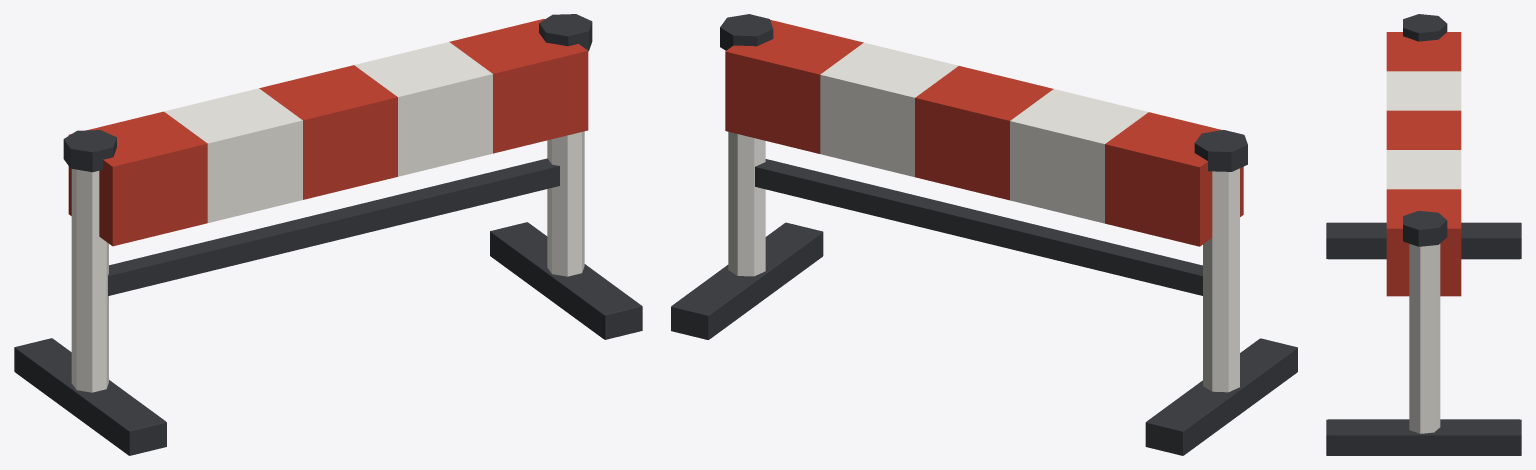
Rendered from hurdle-lod1.glb.
3 views of the same model, side by side, from view 1: azimuth 30°, elevation 25°; view 2: azimuth 150°, elevation 25°; view 3: azimuth 270°, elevation 25° (orthographic). The views are drawn at different scales.
Parts seen in each view (by area): view 1: hurdle; view 2: hurdle; view 3: hurdle.
Part boxes in pixels (x1=…): hurdle: x1=14, y1=14, x2=642, y2=455; hurdle: x1=671, y1=14, x2=1297, y2=455; hurdle: x1=1326, y1=14, x2=1521, y2=455.
Size of the model in its own units: 1.1 by 0.54 by 0.42.
